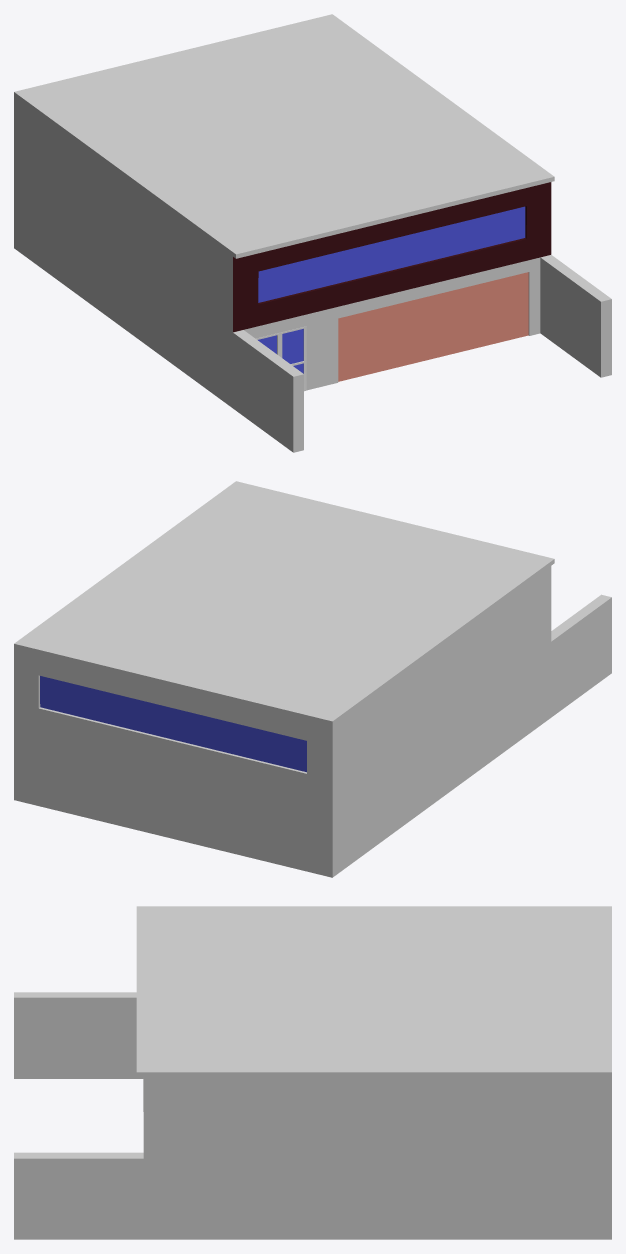
The model's file is building30.fbx.
3 renders of one model, top to bottom at view 1: azimuth 30°, elevation 25°; view 2: azimuth 150°, elevation 25°; view 3: azimuth 270°, elevation 25°, orthographic. The views are drawn at different scales.
Parts seen in each view (by area): view 1: building19; view 2: building19; view 3: building19.
Part boxes in pixels (x1,y1,x2,y2): building19: [14, 14, 611, 452]; building19: [14, 481, 611, 877]; building19: [14, 906, 611, 1239].
Size of the model in its own units: 1316 by 617 by 2000.
